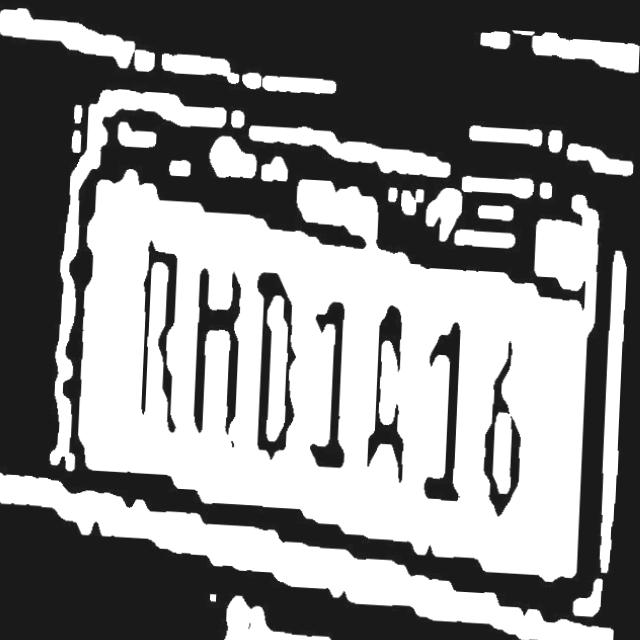1: (421, 311, 473, 505), (309, 290, 359, 469)
6: (482, 324, 534, 511)
a: (366, 297, 415, 483)
d: (253, 267, 304, 458)
h: (191, 255, 249, 445)
r: (136, 240, 189, 430)
